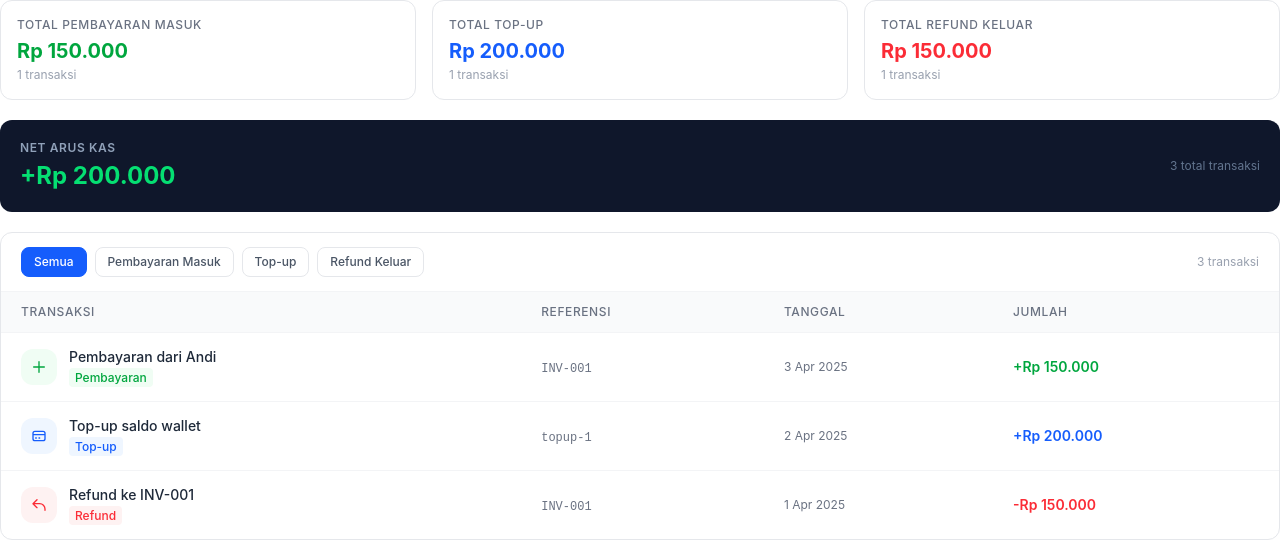
Test case: TransactionHistoryPage › filters to show only REFUND_OUT when clicked
Click the button "Refund Keluar".
click(371, 262)  # box top-left (317, 247), bottom-right (424, 277)
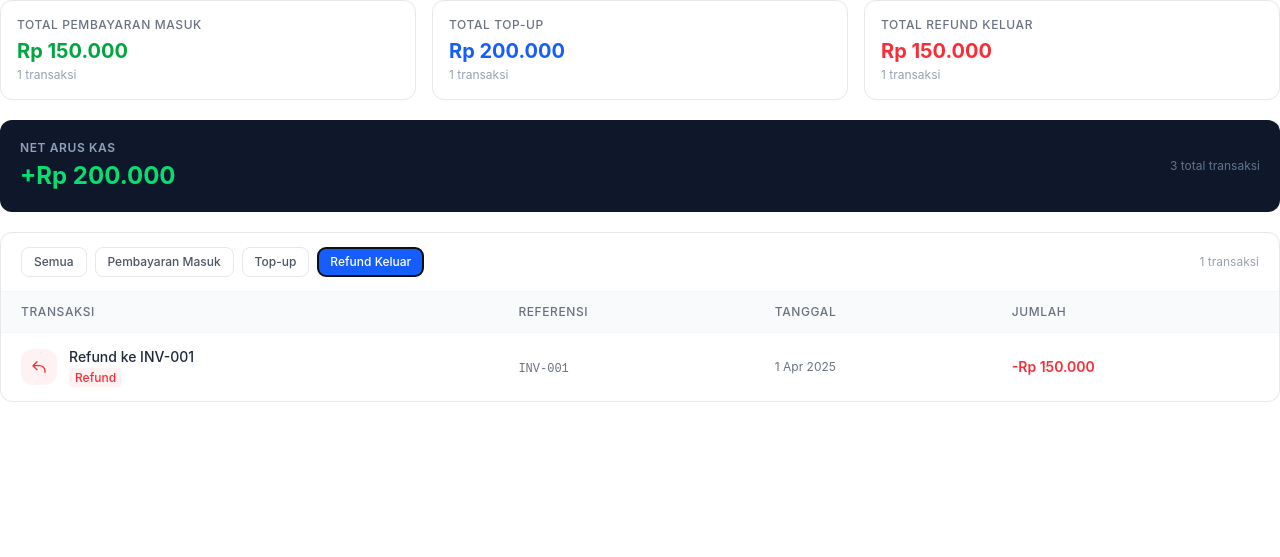
Expected: the text "Refund ke INV-001" is shown, top-left (69, 347), bottom-right (194, 367)
Now the text "Pembayaran dari Andi" is gone
